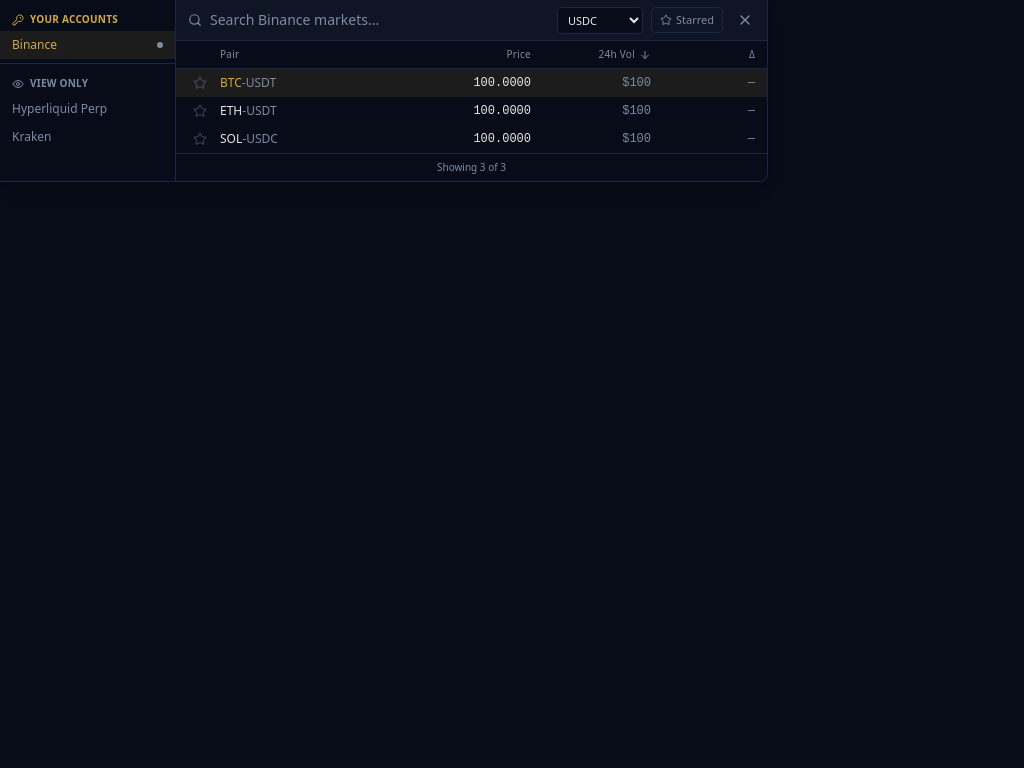
Test: the quote filter › narrows the table to one quote asset
Select "USDC" in the dropdown named "Filter by quote asset": (600, 20) [557, 6, 643, 34]
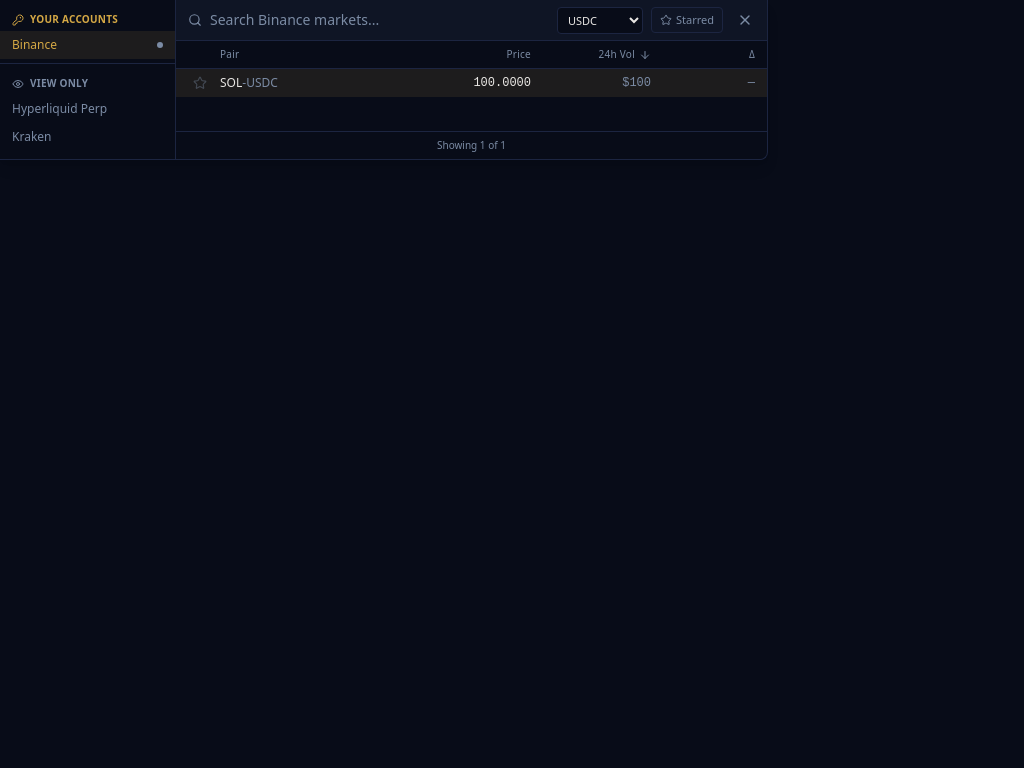
Check: the text "Showing 1 of 1" is shown, box [176, 131, 767, 159]
